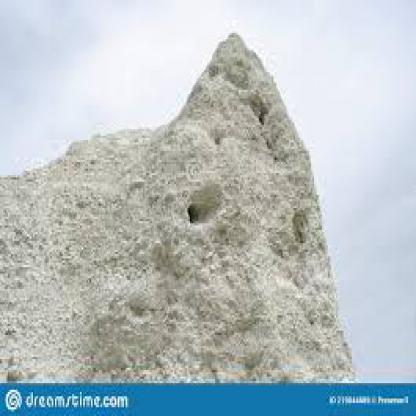Sedimentary_Chalk: (2, 22, 361, 374)
